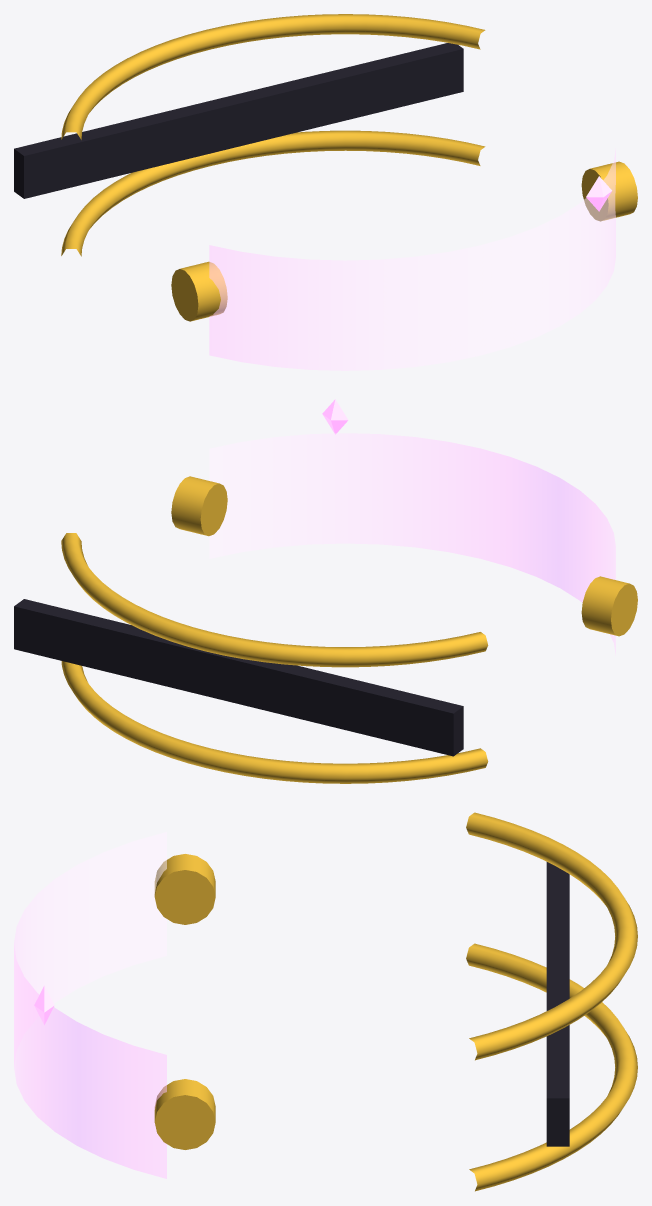
Rendered from gl_eqgw4.glb.
3 renders of one model, top to bottom at view 1: azimuth 30°, elevation 25°; view 2: azimuth 150°, elevation 25°; view 3: azimuth 270°, elevation 25°, orthographic. The views are drawn at different scales.
Bounding box in the file's own units: 2.31 × 0.7307 × 2.53.
